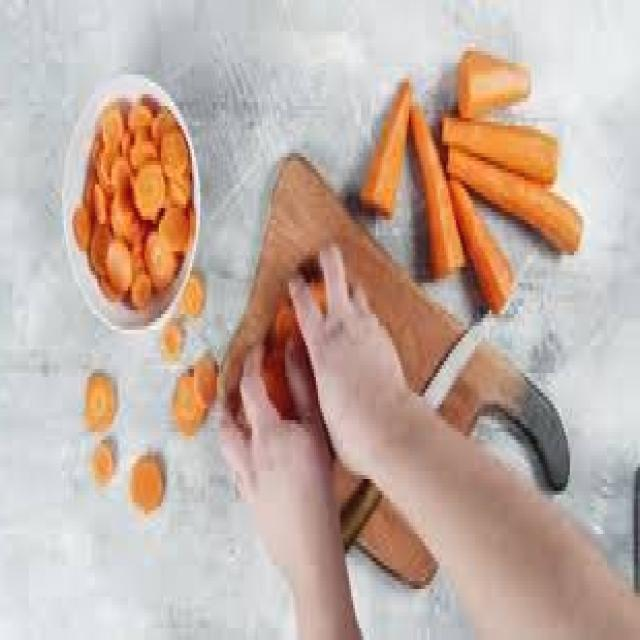garlic: (72, 76, 196, 320), (438, 137, 602, 238), (400, 93, 464, 290), (435, 110, 566, 196), (449, 177, 520, 324), (350, 71, 417, 221), (164, 320, 225, 442), (451, 47, 534, 130), (153, 255, 214, 342), (71, 360, 133, 434), (124, 443, 169, 519), (88, 437, 124, 484)
